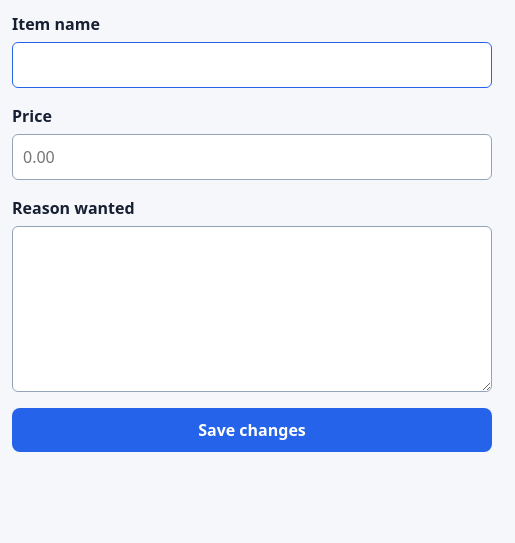
Scenario: EntryForm › preserves input and shows a form error after a server failure
The image size is (515, 543).
In the field labelled "Item name": (252, 65) [12, 42, 492, 88], type "Coffee grinder"
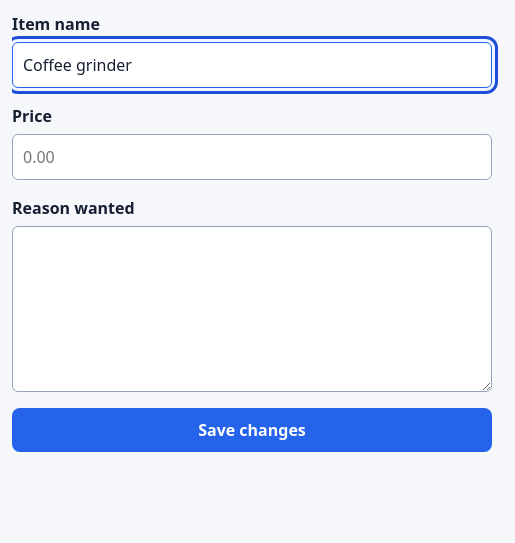
In the field labelled "Price": (252, 157) [12, 134, 492, 180], type "89.99"
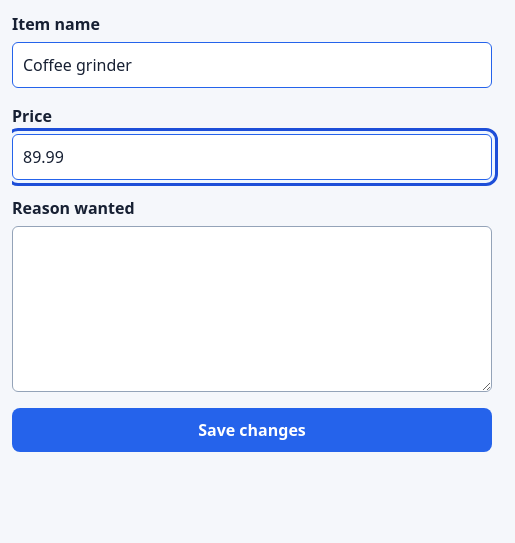
In the text box labelled "Reason wanted": (252, 309) [12, 226, 492, 392], type "Better coffee at home"
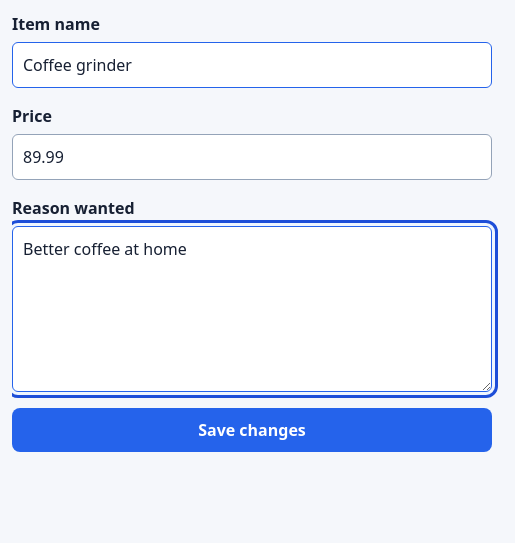
Click the button "Save changes": (252, 430) [12, 408, 492, 452]
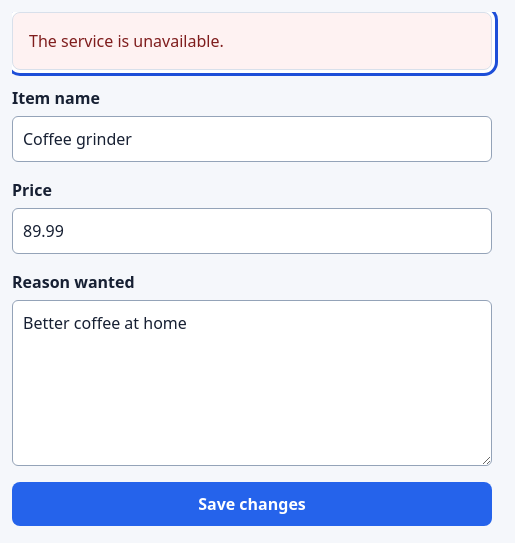
Now the message reads "The service is unavailable.", box [29, 30, 224, 52]
